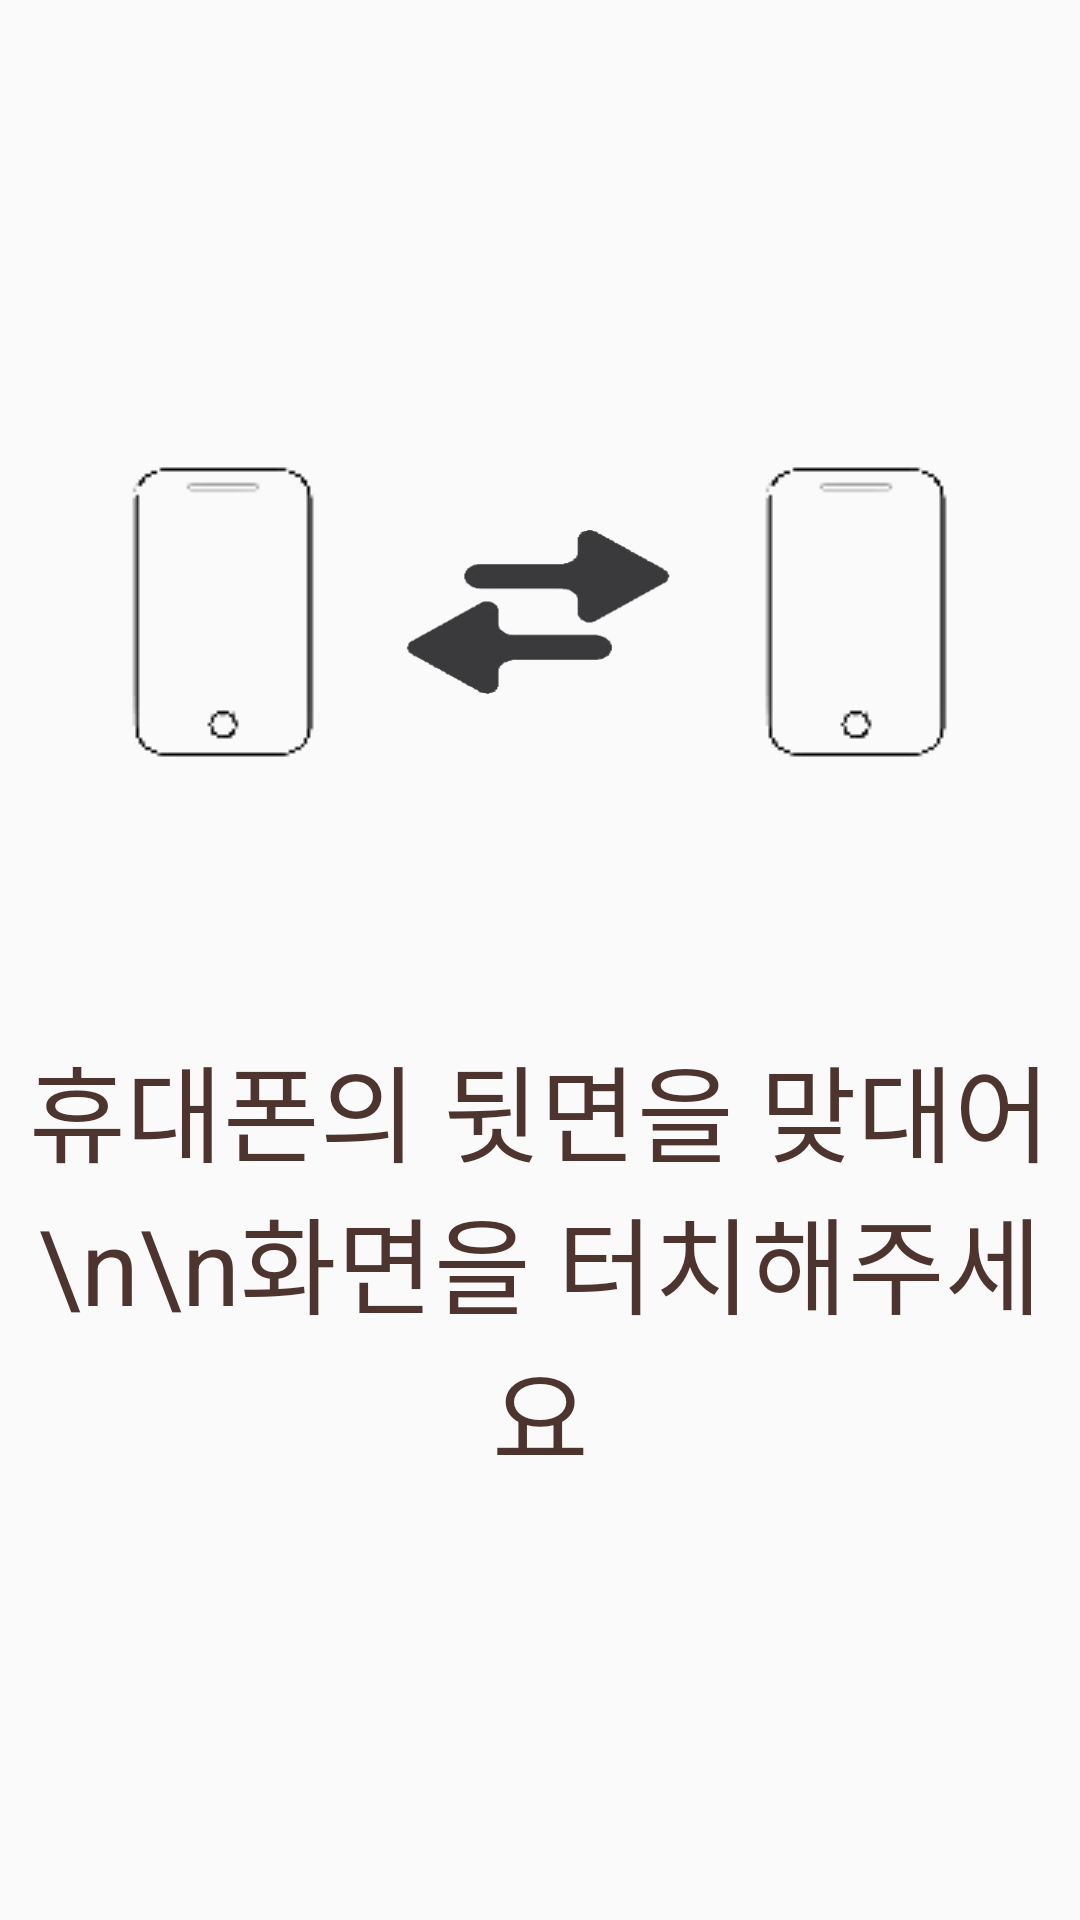

Named icons in this screenshot (1080×1920) and their centers, (x,y):
exchangeimage: (538,612)
phoneimage: (223,612), (856,612)
